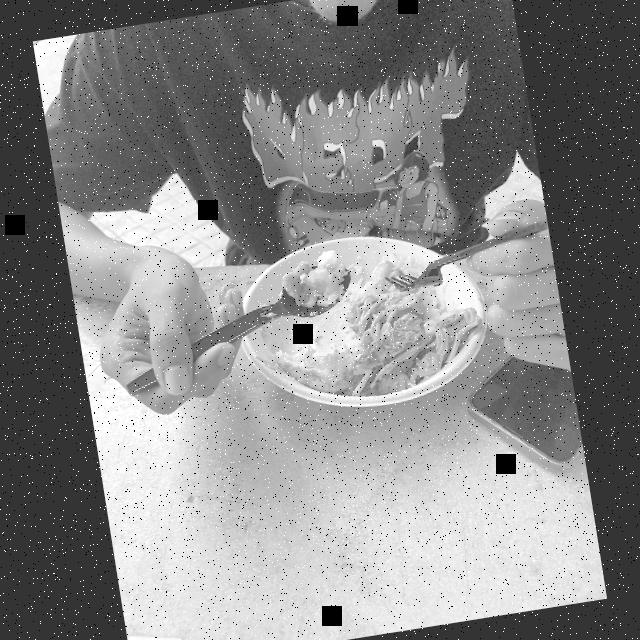cardboard_bowl: (220, 208, 507, 446)
plastic_spoon: (104, 250, 368, 402), (373, 215, 555, 302)
